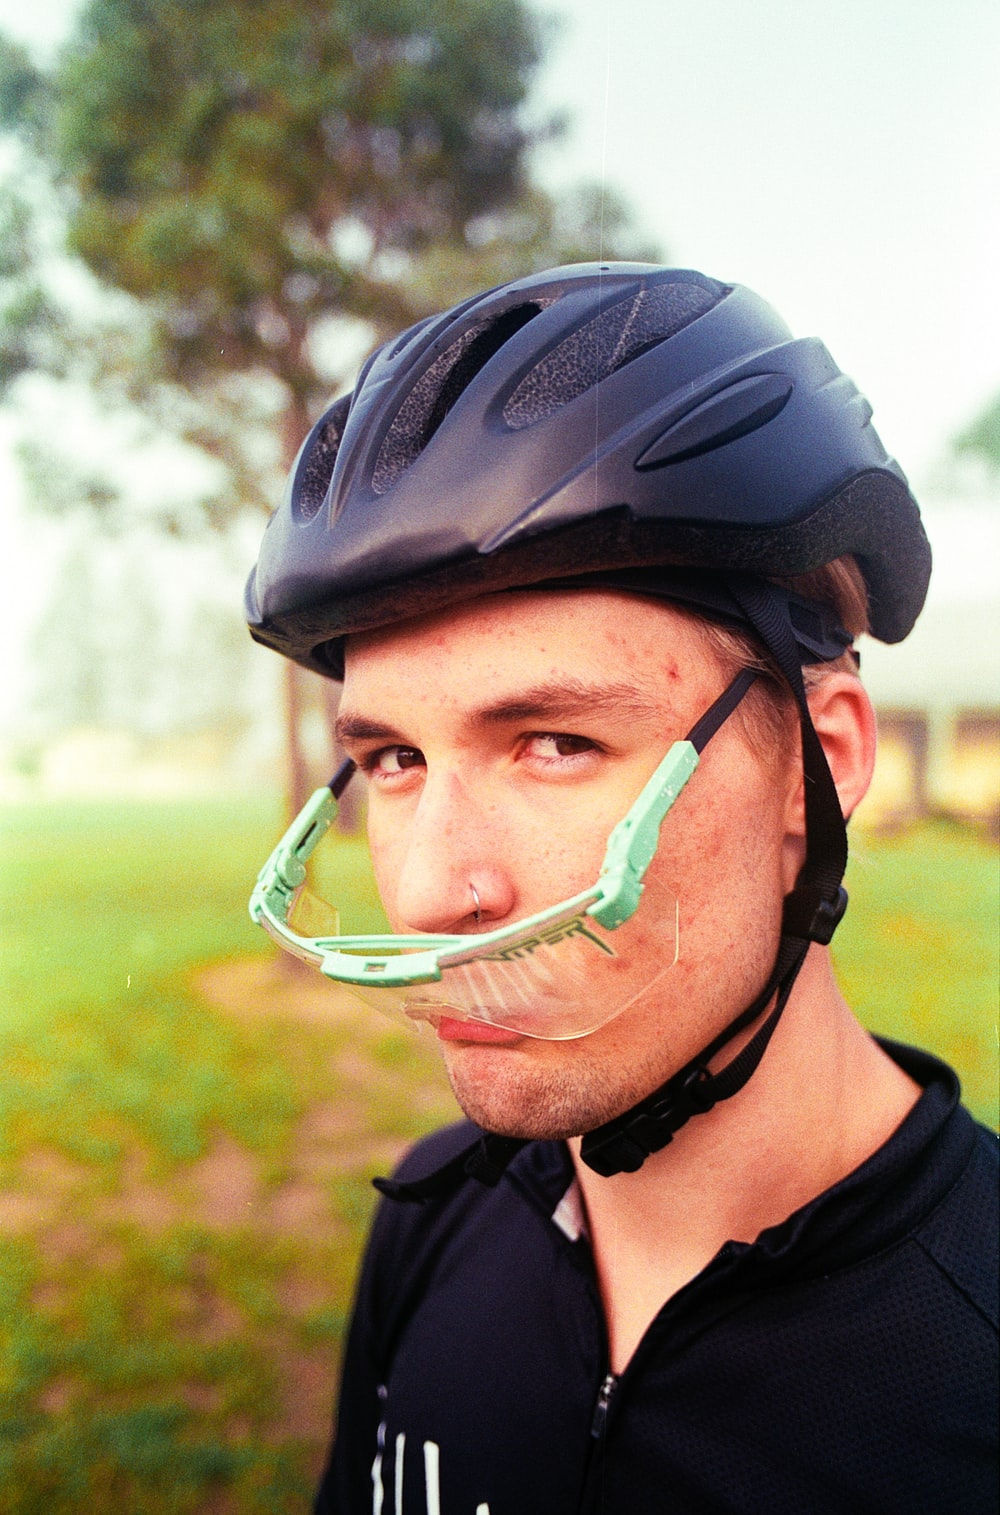helmet: (242, 261, 932, 1137)
